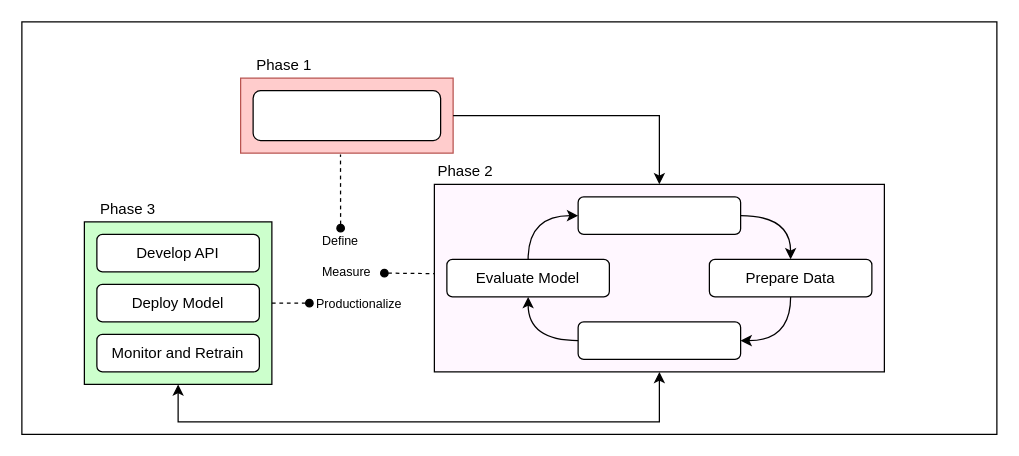
Some shapes in this 1019 by 456 pixel diagram are drawn without their labels. Here are the shapes that lost their labels. From the top down, the box of each, then its label:
(252, 89, 441, 141): Frame Business Needs
(577, 196, 741, 234): Get Data
(577, 321, 741, 359): Create Model
